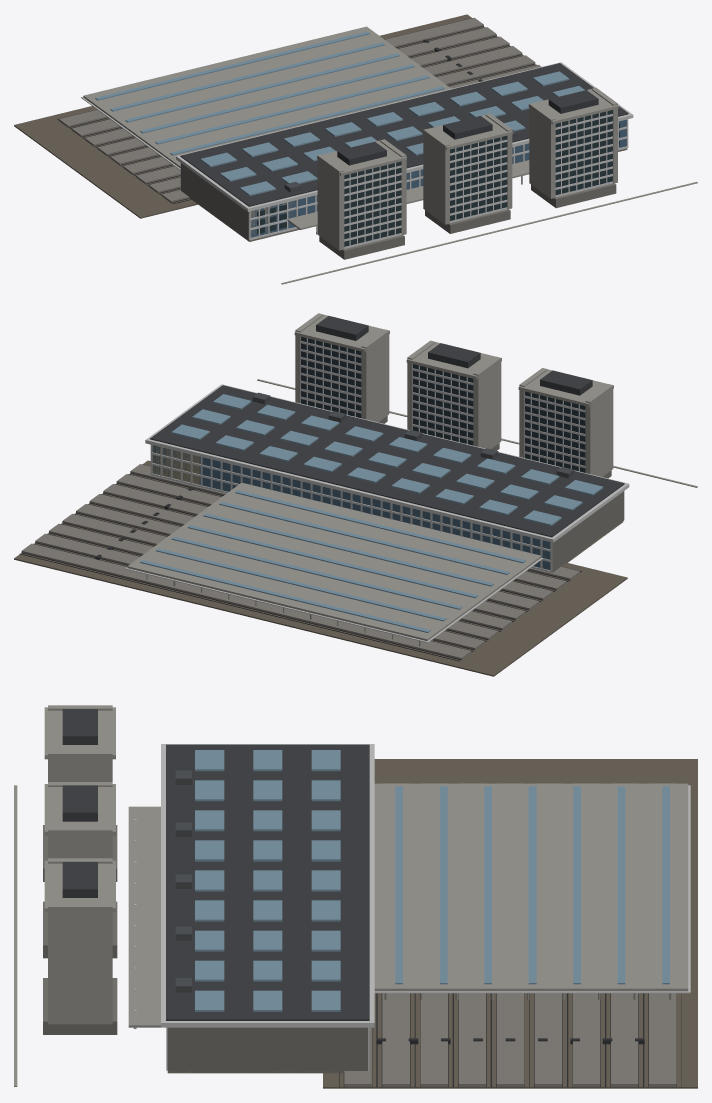
File: euston_station_1968.glb
The picture shows the model from 3 angles, top to bottom: view 1: azimuth 30°, elevation 25°; view 2: azimuth 150°, elevation 25°; view 3: azimuth 270°, elevation 25°; orthographic projection. The views are drawn at different scales.
Parts seen in each view (by area): view 1: euston_station_1968; view 2: euston_station_1968; view 3: euston_station_1968.
Part boxes in pixels (box(x1,y1,x2,y2)): euston_station_1968: box(14, 14, 697, 284); euston_station_1968: box(14, 313, 697, 676); euston_station_1968: box(14, 705, 697, 1088).
Size of the model in its own units: 240 by 47.5 by 212.
